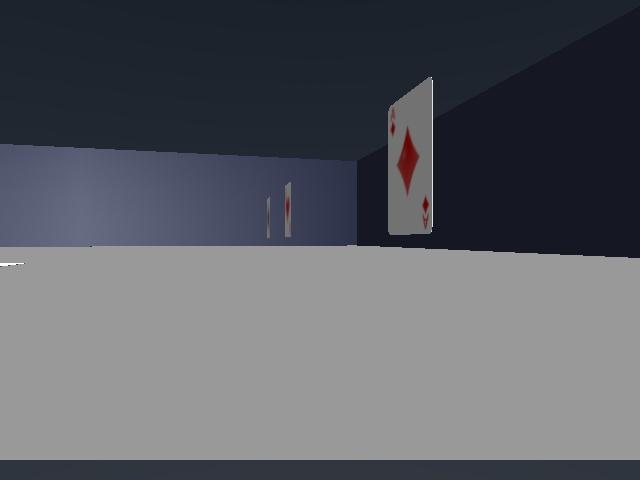diamond: (388, 77, 432, 234)
heart: (285, 182, 290, 236)
